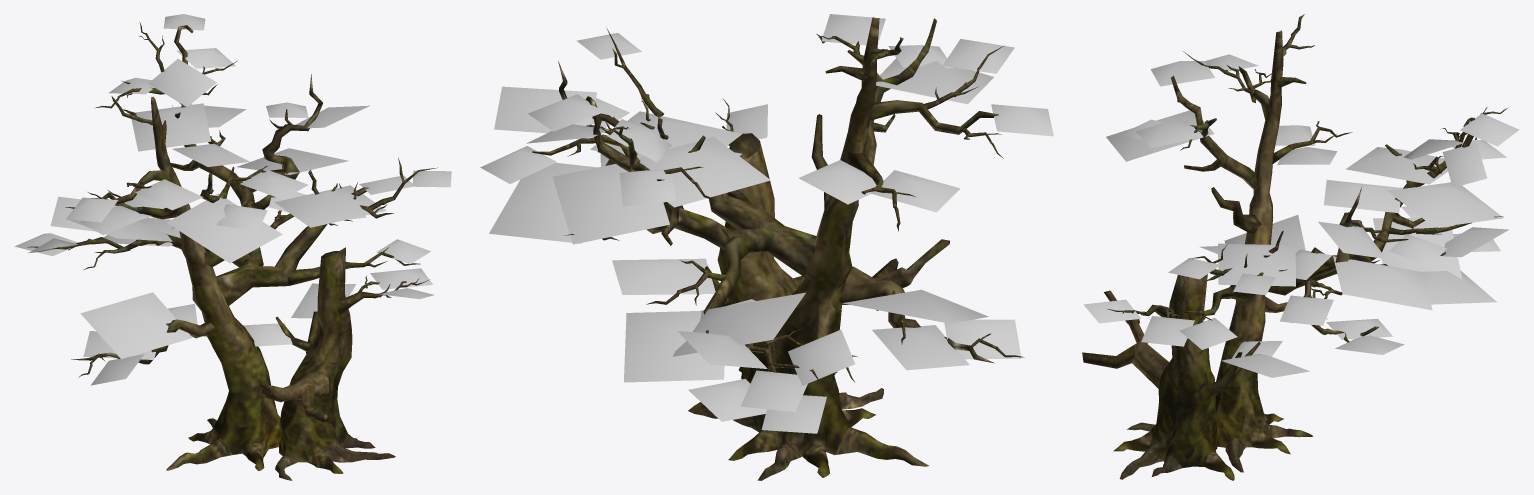
Rendered from GYgaolaozhuang_01.FBX.
The picture shows the model from 3 angles, left to right: view 1: azimuth 30°, elevation 25°; view 2: azimuth 150°, elevation 25°; view 3: azimuth 270°, elevation 25°; orthographic projection. The views are drawn at different scales.
Parts seen in each view (by area): view 1: DrawCall_0047_001_001_003, DrawCall_0047_001_001_011; view 2: DrawCall_0047_001_001_011, DrawCall_0047_001_001_003; view 3: DrawCall_0047_001_001_011, DrawCall_0047_001_001_003.
Boxes of the visible parts, x1,y1,x2,y2 form: DrawCall_0047_001_001_003: (27, 22, 437, 480); DrawCall_0047_001_001_011: (14, 14, 451, 385); DrawCall_0047_001_001_011: (480, 14, 1053, 433); DrawCall_0047_001_001_003: (532, 17, 1024, 480); DrawCall_0047_001_001_011: (1083, 54, 1519, 377); DrawCall_0047_001_001_003: (1082, 14, 1507, 480).
Bounding box in the file's own units: 838 × 760 × 812.
